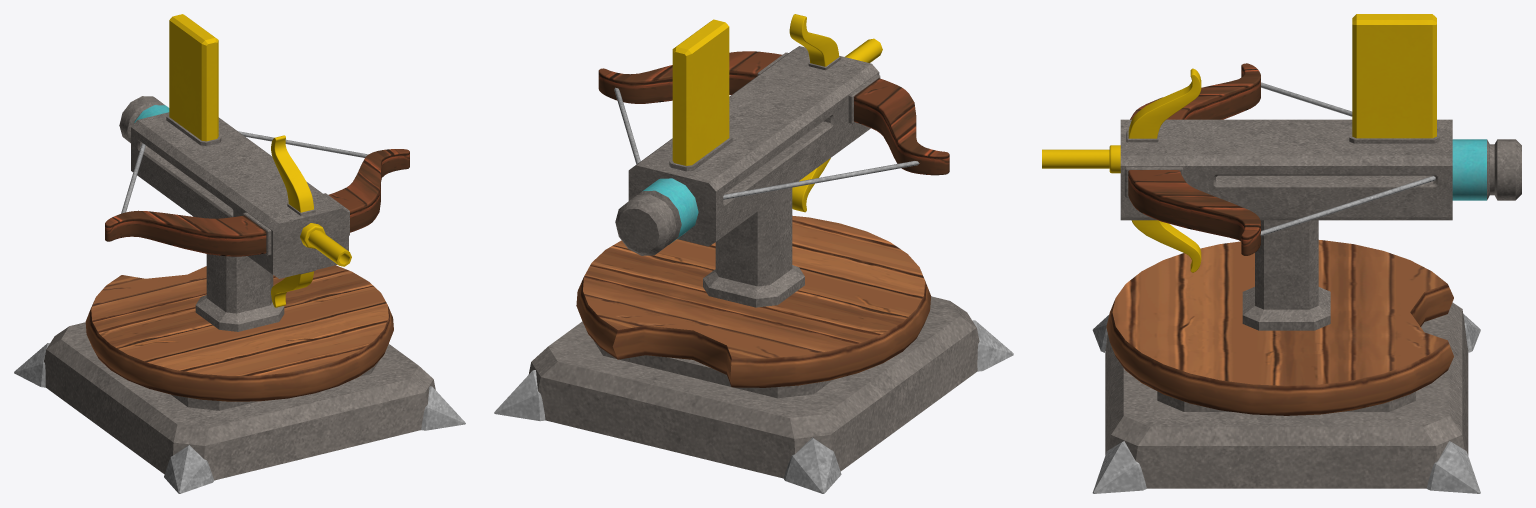
The model's file is Crossbow Lv 2.FBX.
3 views of the same model, side by side, from view 1: azimuth 30°, elevation 25°; view 2: azimuth 150°, elevation 25°; view 3: azimuth 270°, elevation 25° (orthographic). The views are drawn at different scales.
Parts seen in each view (by area): view 1: Crossbow 2 Top, Crossbow 2 Base; view 2: Crossbow 2 Top, Crossbow 2 Base; view 3: Crossbow 2 Top, Crossbow 2 Base.
Boxes of the visible parts, <box> form: Crossbow 2 Top: <box>85,14,409,401</box>; Crossbow 2 Base: <box>14,322,465,493</box>; Crossbow 2 Top: <box>576,14,949,387</box>; Crossbow 2 Base: <box>494,296,1013,493</box>; Crossbow 2 Top: <box>1042,14,1521,415</box>; Crossbow 2 Base: <box>1092,302,1480,493</box>.
Bounding box in the file's own units: 76.19 × 81 × 89.16.
Materials: 1 (1 with a texture image).
